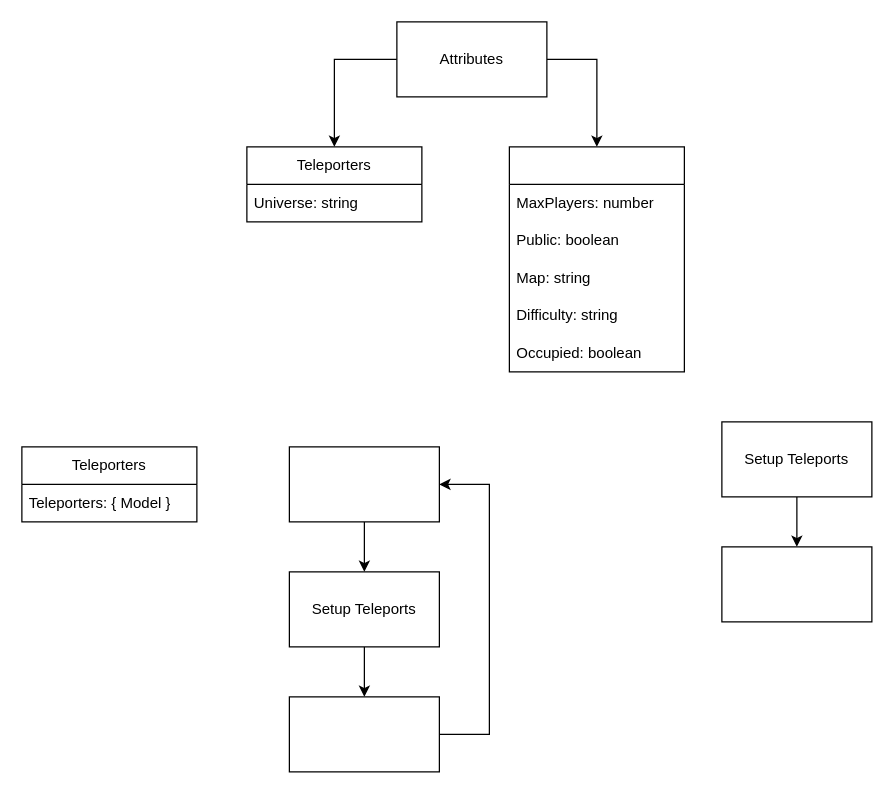
The diagram is 894 pixels wide and 794 high, and some of its shapes have lost their labels. Each missing label, with the box of its shape:
Teleporter: (508, 146, 684, 372)
Teleporters Main Loop: (288, 446, 439, 522)
Wait 30s: (288, 696, 439, 772)
